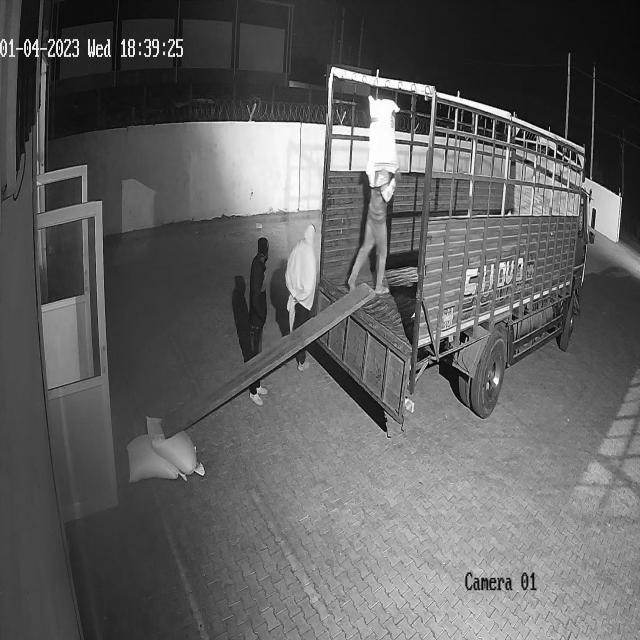sack: (145, 414, 204, 475), (126, 434, 186, 481), (366, 95, 400, 176)
